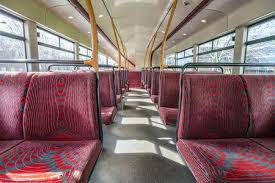seat: (182, 70, 271, 171)
